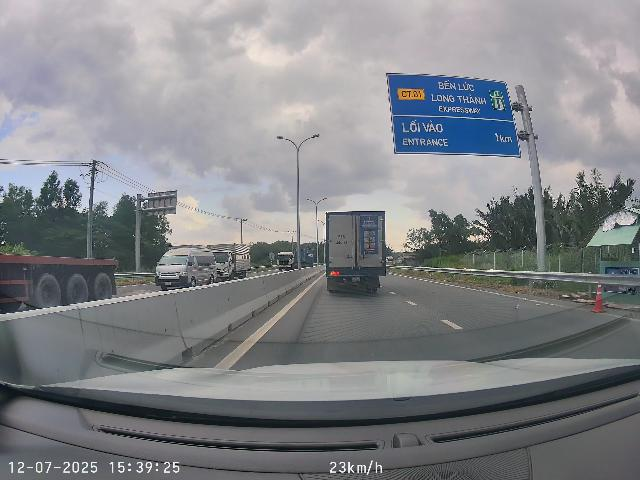437-bat-dau-duong-cao-toc: (489, 90, 506, 111)
